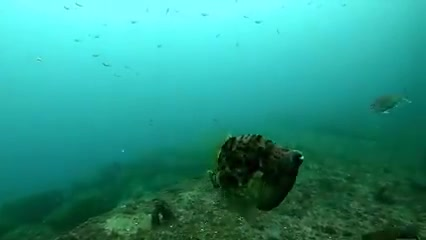kawahagi: (203, 127, 313, 216)
